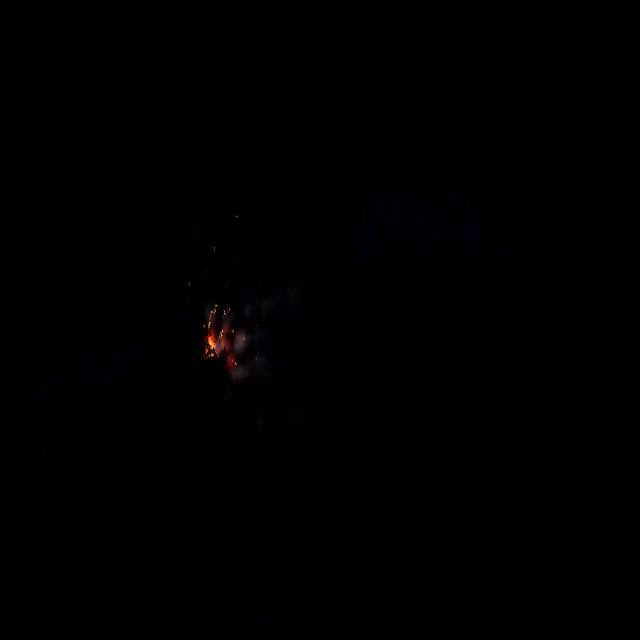fire: (202, 310, 236, 374)
